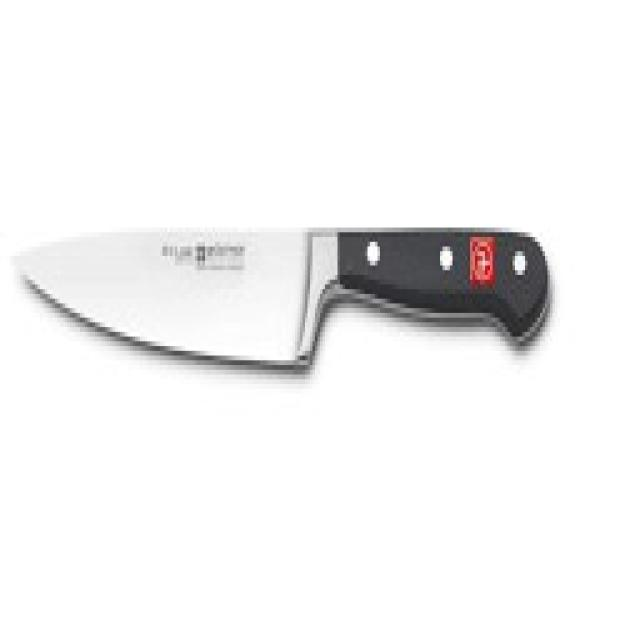knife: (10, 221, 552, 388)
